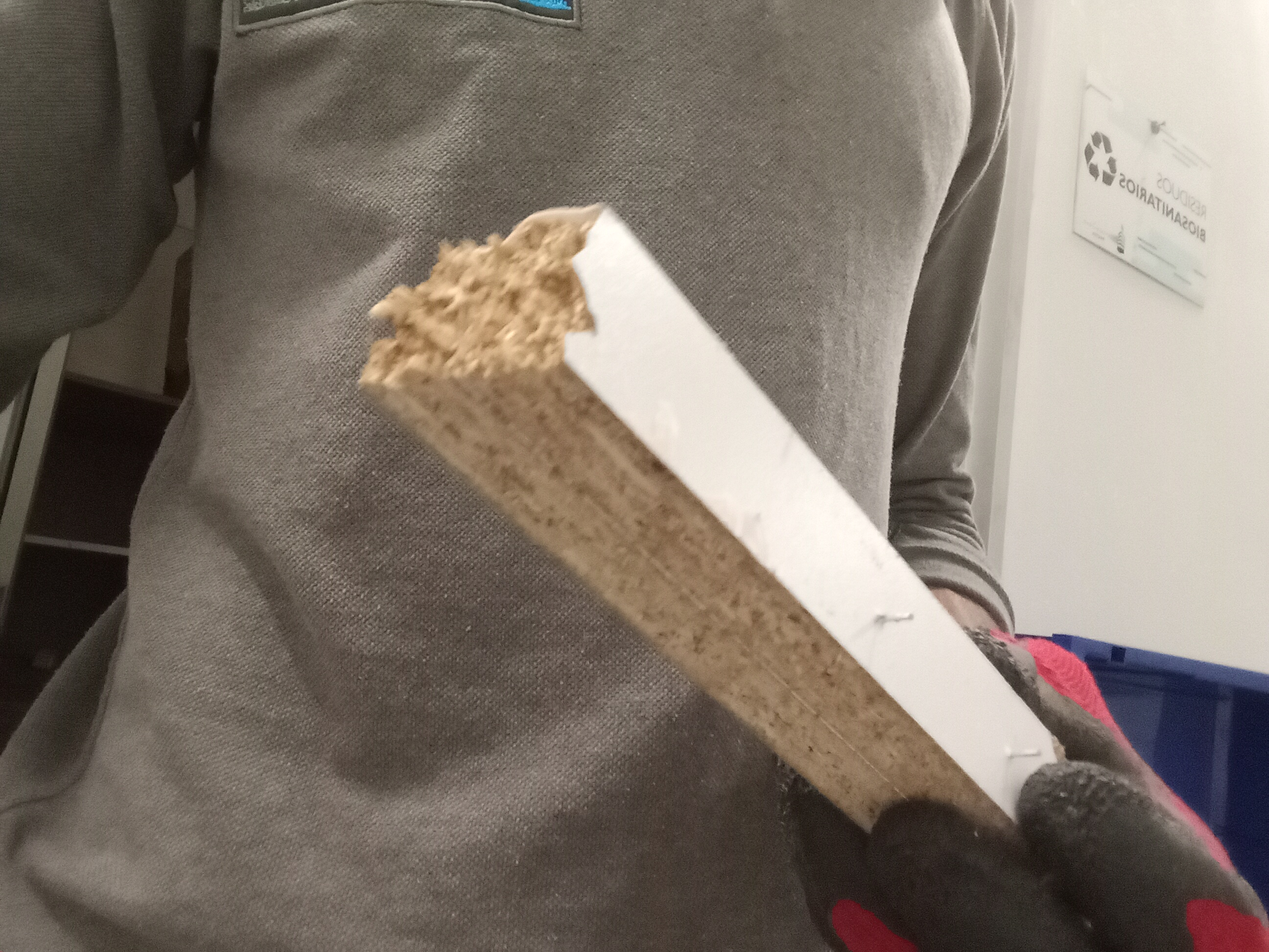Ordinario: (358, 202, 1061, 823)
